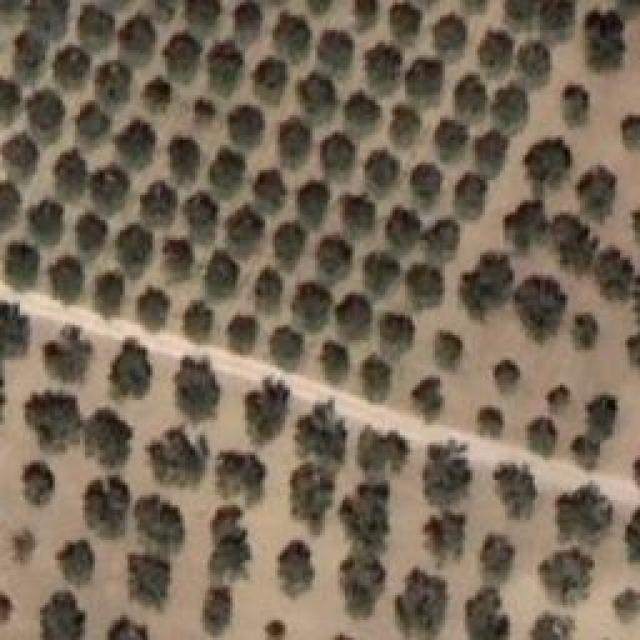Tree: (390, 562, 450, 640), (490, 458, 550, 526), (143, 425, 204, 489), (200, 503, 249, 580), (415, 441, 471, 508), (27, 390, 84, 455), (128, 495, 183, 562), (80, 470, 131, 541), (460, 585, 525, 640), (355, 421, 417, 474), (515, 273, 569, 333), (208, 448, 261, 509), (345, 477, 391, 547), (38, 322, 93, 380), (335, 543, 381, 611), (235, 385, 290, 441), (520, 135, 573, 193), (285, 465, 336, 525), (543, 552, 594, 610), (123, 557, 173, 616), (298, 402, 348, 461), (80, 407, 129, 466), (582, 8, 627, 71), (465, 253, 518, 306), (560, 490, 610, 546), (172, 355, 218, 415), (40, 588, 92, 640), (103, 340, 152, 393), (593, 240, 637, 299), (577, 165, 623, 220), (415, 508, 464, 557), (357, 353, 402, 405), (20, 463, 62, 518), (550, 213, 593, 266), (3, 240, 43, 293), (330, 292, 376, 338), (113, 220, 157, 268), (478, 525, 514, 583), (315, 335, 354, 388), (583, 390, 626, 438), (90, 265, 129, 317), (504, 198, 546, 245), (268, 10, 310, 56), (250, 53, 287, 105), (408, 55, 451, 99), (405, 260, 448, 304), (58, 532, 98, 579), (488, 358, 532, 400), (522, 410, 568, 450), (3, 298, 32, 361), (15, 25, 51, 75), (448, 172, 488, 217), (208, 152, 247, 198), (365, 44, 407, 86), (378, 313, 419, 356), (410, 162, 449, 207), (515, 42, 553, 88), (447, 75, 493, 113), (532, 597, 572, 640), (473, 400, 516, 440), (53, 150, 92, 194), (118, 115, 156, 160), (173, 32, 210, 78), (493, 87, 529, 134), (425, 115, 465, 157), (390, 0, 433, 39), (43, 258, 81, 302), (277, 543, 311, 592), (340, 190, 377, 235), (341, 85, 374, 135), (298, 278, 333, 325), (225, 105, 268, 143), (383, 108, 421, 151), (473, 127, 509, 172), (323, 130, 360, 173), (235, 3, 268, 51), (185, 190, 221, 234), (253, 165, 289, 209), (317, 230, 350, 278), (273, 118, 312, 158), (475, 28, 513, 68), (27, 90, 60, 136), (95, 173, 132, 214), (140, 183, 175, 226), (317, 33, 351, 77), (78, 0, 116, 39), (385, 208, 423, 247), (135, 280, 171, 321), (553, 85, 589, 126), (210, 53, 245, 95), (428, 330, 470, 365), (25, 198, 59, 241), (0, 73, 28, 125), (538, 0, 576, 38), (255, 270, 294, 307), (70, 215, 106, 255), (228, 210, 263, 251), (277, 220, 310, 263), (115, 23, 150, 63), (360, 248, 401, 282), (567, 308, 601, 348), (290, 178, 327, 214), (75, 103, 108, 143), (433, 22, 474, 54), (8, 533, 38, 576), (268, 323, 298, 366), (167, 138, 200, 177), (412, 373, 445, 412), (5, 130, 37, 170), (613, 583, 640, 630), (180, 300, 210, 342), (225, 315, 264, 347), (95, 60, 126, 100), (198, 590, 228, 631), (0, 183, 24, 234), (55, 45, 84, 87), (567, 433, 601, 468), (32, 0, 70, 31), (297, 75, 331, 109), (550, 378, 583, 413), (365, 150, 397, 183), (203, 253, 232, 288), (190, 95, 216, 134), (423, 220, 460, 247), (185, 0, 230, 22), (103, 617, 146, 640), (158, 240, 188, 271), (260, 615, 295, 640), (622, 507, 640, 555), (622, 110, 640, 153), (497, 0, 533, 21), (304, 0, 338, 19), (623, 330, 640, 367), (145, 78, 166, 107), (351, 0, 378, 19)
